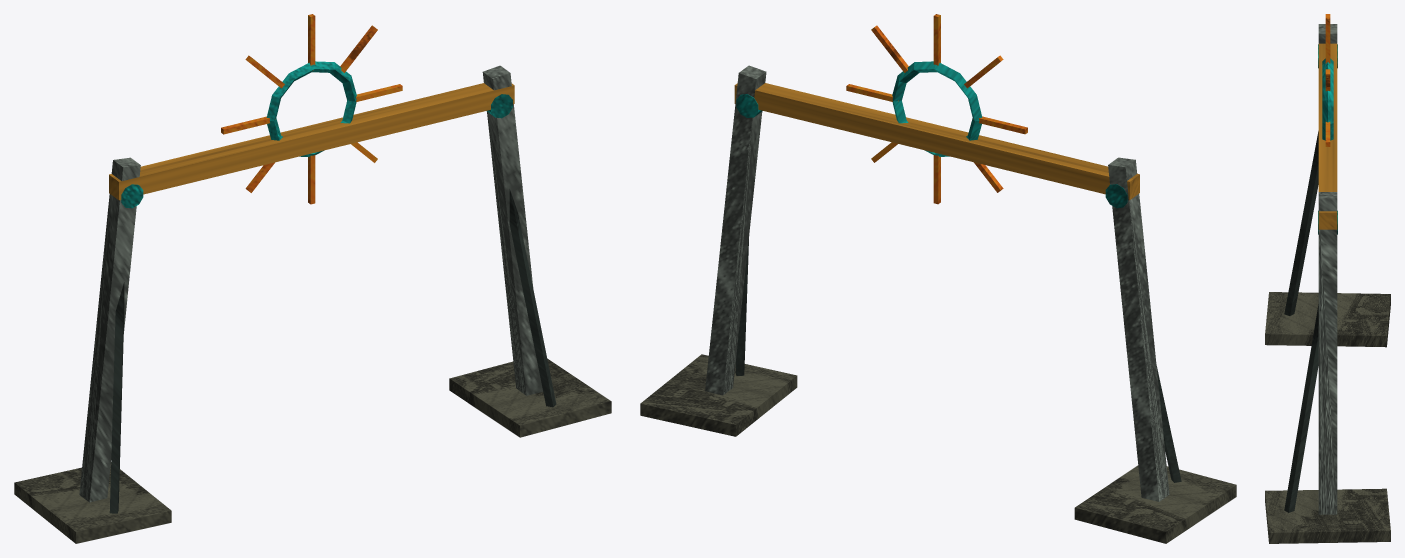
File: showroom-entrance-arch.glb
3 renders of one model, left to right at view 1: azimuth 30°, elevation 25°; view 2: azimuth 150°, elevation 25°; view 3: azimuth 270°, elevation 25°, orthographic. The views are drawn at different scales.
Parts seen in each view (by area): view 1: showroom-entrance-arch; view 2: showroom-entrance-arch; view 3: showroom-entrance-arch.
Boxes of the visible parts, bbox=[...] form: showroom-entrance-arch: bbox=[14, 14, 611, 543]; showroom-entrance-arch: bbox=[640, 14, 1236, 543]; showroom-entrance-arch: bbox=[1265, 14, 1390, 543].
Size of the model in its own units: 10.29 by 8.07 by 2.27.
Materials: 1 (1 with a texture image).
